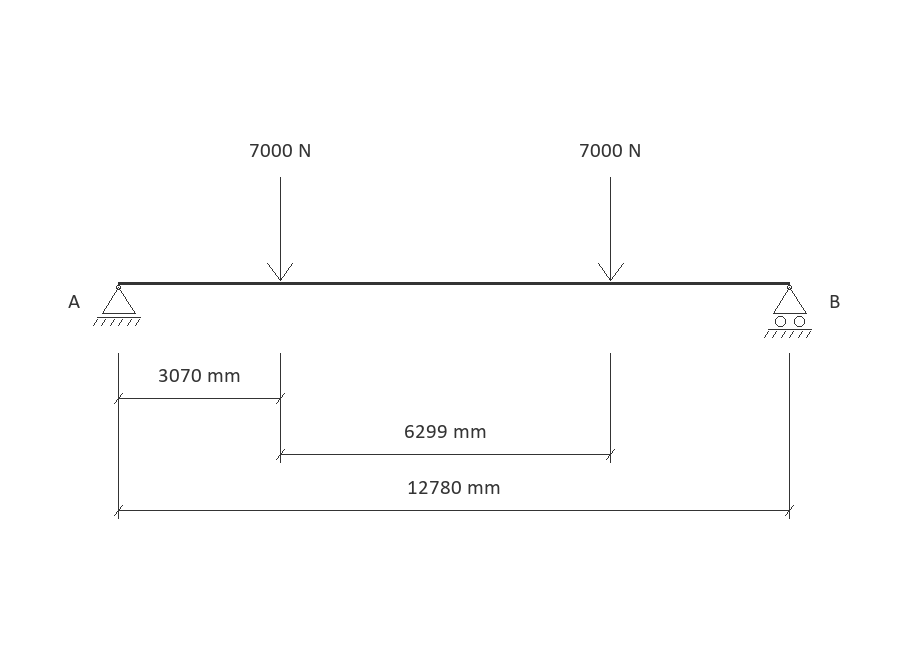pin_support: (93, 285, 141, 326)
point_load: (267, 177, 293, 281), (598, 177, 624, 281)
roller_support: (764, 285, 812, 338)
